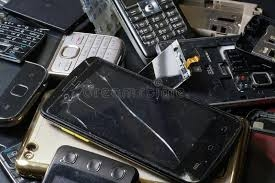metal: (38, 52, 249, 183), (106, 1, 204, 75), (37, 143, 148, 183), (1, 56, 51, 127), (226, 12, 275, 65), (1, 16, 49, 65)
